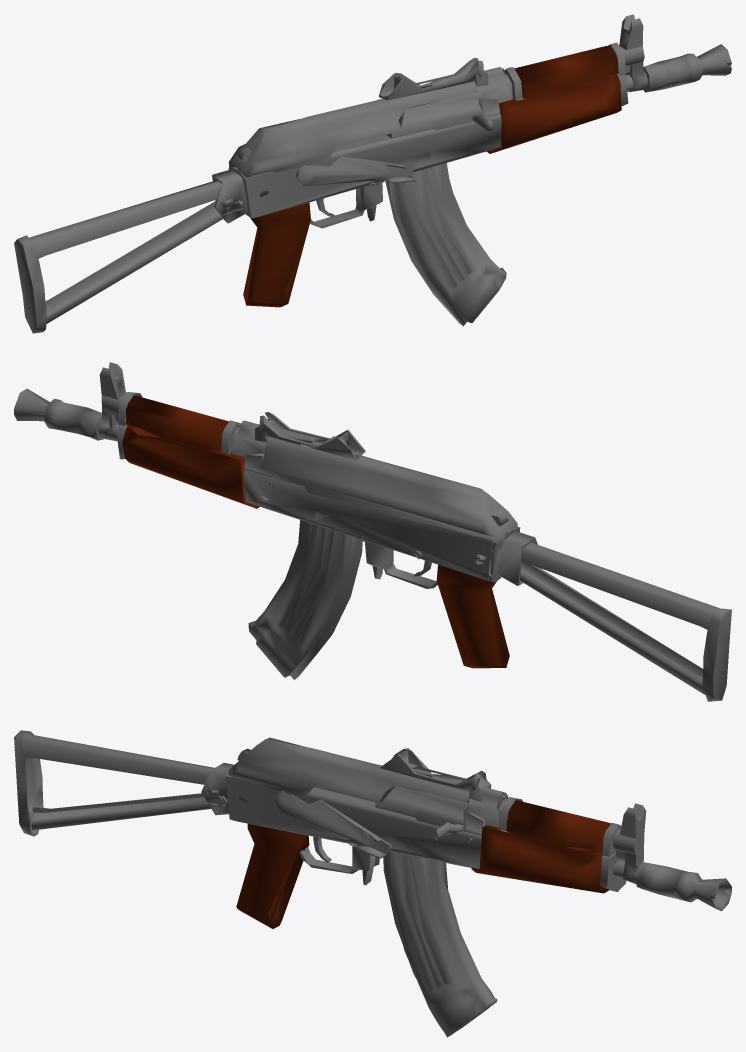
Rendered from aks74u_lod1.glb.
3 views of the same model, one above another, from view 1: azimuth 30°, elevation 25°; view 2: azimuth 150°, elevation 25°; view 3: azimuth 330°, elevation 25° (orthographic). The views are drawn at different scales.
Parts seen in each view (by area): view 1: base, base_2, mag, bolt; view 2: base, base_2, mag; view 3: base, base_2, mag, bolt.
Boxes of the visible parts, bbox=[...] form: base: bbox=[14, 14, 731, 333]; base_2: bbox=[243, 45, 621, 307]; mag: bbox=[385, 163, 506, 326]; bolt: bbox=[386, 92, 493, 138]; base: bbox=[14, 362, 731, 701]; base_2: bbox=[122, 395, 509, 668]; mag: bbox=[248, 520, 362, 679]; base: bbox=[14, 730, 731, 911]; base_2: bbox=[236, 800, 611, 928]; mag: bbox=[383, 851, 497, 1037]; bolt: bbox=[375, 786, 468, 840].
Size of the model in its own units: 0.7282 by 0.2634 by 0.0771.
